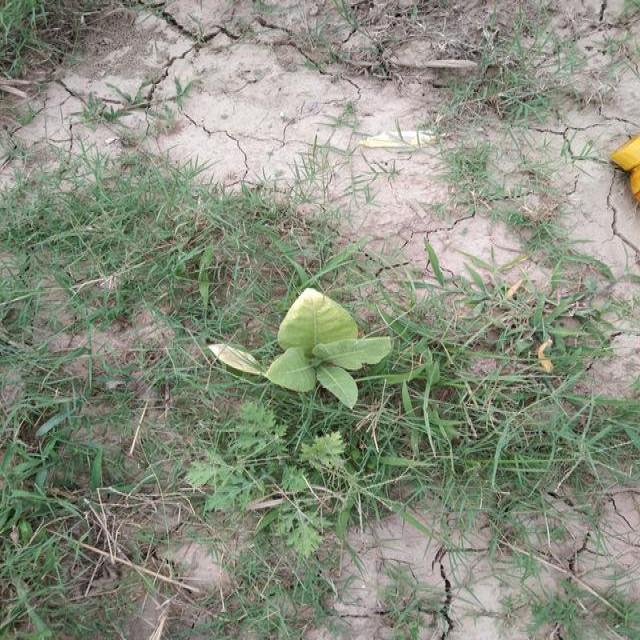crop: (201, 279, 402, 415)
